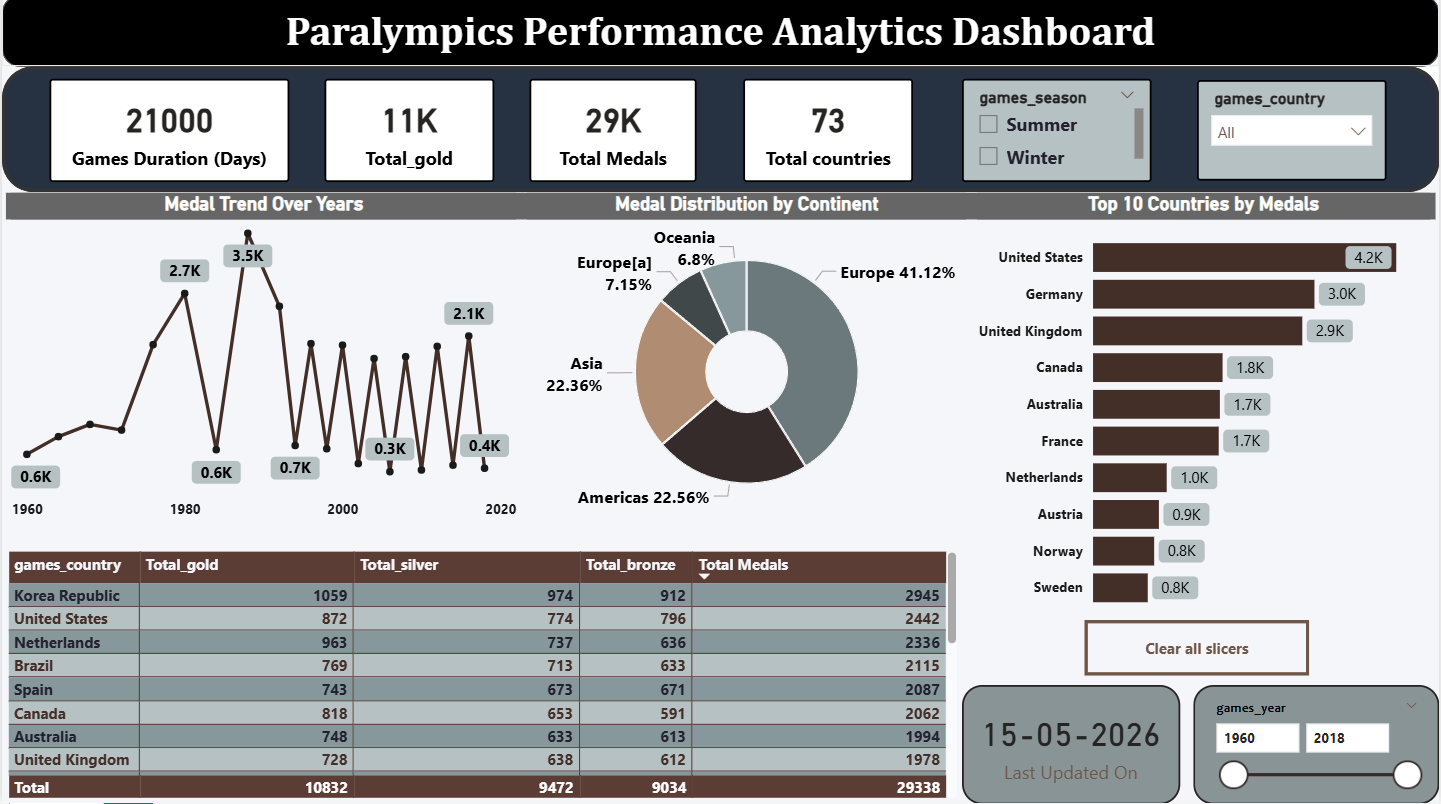

This screenshot's page, from the dashboard's own definition file:
{"tool":"powerbi","page":{"name":"Page 1","canvas":[1280,720],"ordinal":0},"visuals":[{"type":"slicer","fields":{"Values":["Sheet1.games_year"]},"box":[1060.5,614.1,219.6,106.2],"z":0},{"type":"shape","box":[0,0,1280,63.9],"z":1000},{"type":"shape","box":[0,63.9,1280,112.2],"z":2000},{"type":"card","fields":{"Values":["Sheet1.Total Medals"]},"box":[469.8,74.3,148.8,91.9],"z":3000},{"type":"card","fields":{"Values":["Sheet1.Total countries"]},"box":[660.5,74.3,151.2,91.9],"z":4000},{"type":"lineChart","title":"Medal Trend Over Years","fields":{"Y":["Sheet1.Total Medals"],"Category":["Sheet1.games_year"]},"box":[3.6,176.1,459.7,300.4],"z":5000},{"type":"clusteredBarChart","title":"Top 10 Countries by Medals","fields":{"Category":["Sheet1.npc_name"],"Y":["Sheet1.Total Medals"]},"box":[863.8,176.1,412.6,383.6],"z":6000},{"type":"donutChart","title":"Medal Distribution by Continent","fields":{"Category":["Sheet1.games_continent"],"Y":["Sheet1.Total Medals"]},"box":[463.3,176.1,400.5,300.4],"z":7000},{"type":"slicer","fields":{"Values":["Sheet1.games_season"]},"box":[855.4,74.8,168.9,91.7],"z":8000},{"type":"slicer","fields":{"Values":["Sheet1.games_country"]},"box":[1064,75.5,168.6,89.5],"z":9000},{"type":"card","fields":{"Values":["Sheet1.Total_gold"]},"box":[287.1,74.4,150.8,91.7],"z":11000},{"type":"tableEx","fields":{"Values":["Sheet1.games_country","Sheet1.Total_gold","Sheet1.Total_silver","Sheet1.Total_bronze","Sheet1.Total Medals"]},"box":[0,491,855.4,229.2],"z":12000},{"type":"card","fields":{"Values":["Sheet1.Games Duration (Days)"]},"box":[42.2,74.4,213.5,91.7],"z":13000},{"type":"card","fields":{"Values":["Sheet1.Last Updated On"]},"box":[855.4,614.1,194.2,106.2],"z":14000},{"type":"actionButton","box":[963.9,556.2,200.3,49.5],"z":15000}]}

Visuals, with their boxes in screenshot pixels (x1, y1, x2, y2), scaled from the page's 1280x720 canvas onto the 1441x804 screenshot:
slicer - Sheet1.games_year: crop(1194, 686, 1440, 803)
shape: crop(0, 0, 1440, 71)
shape: crop(0, 71, 1440, 197)
card - Sheet1.Total Medals: crop(529, 83, 696, 186)
card - Sheet1.Total countries: crop(744, 83, 914, 186)
"Medal Trend Over Years" lineChart: crop(4, 197, 522, 532)
"Top 10 Countries by Medals" clusteredBarChart: crop(972, 197, 1437, 625)
"Medal Distribution by Continent" donutChart: crop(522, 197, 972, 532)
slicer - Sheet1.games_season: crop(963, 84, 1153, 186)
slicer - Sheet1.games_country: crop(1198, 84, 1388, 184)
card - Sheet1.Total_gold: crop(323, 83, 493, 185)
tableEx - Sheet1.games_country x Sheet1.Total_gold: crop(0, 548, 963, 803)
card - Sheet1.Games Duration (Days): crop(48, 83, 288, 185)
card - Sheet1.Last Updated On: crop(963, 686, 1182, 803)
actionButton: crop(1085, 621, 1311, 676)
